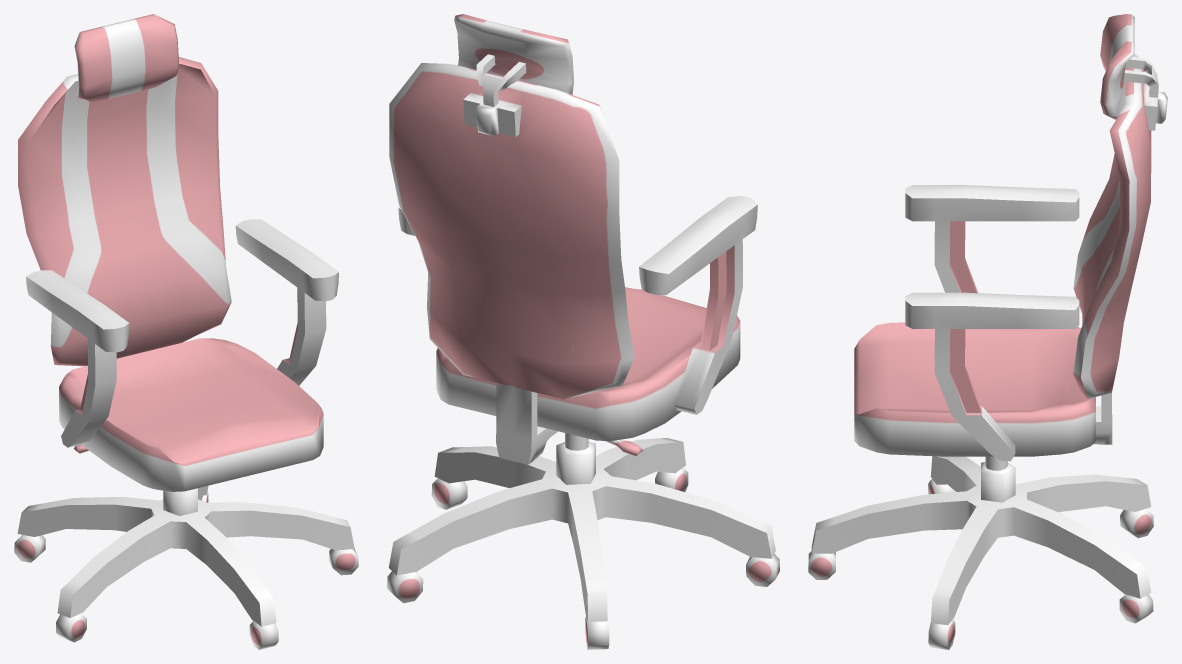
File: chair.fbx
3 renders of one model, left to right at view 1: azimuth 30°, elevation 25°; view 2: azimuth 150°, elevation 25°; view 3: azimuth 270°, elevation 25°, orthographic. The views are drawn at different scales.
Visible parts, largest first — view 1: cowbay, seat, feet, arm_Right, arm_Left, wheel_3, wheel_2, wheel_1, wheel_5; view 2: cowbay, feet, seat, arm_Right, wheel_4, wheel_5, wheel_3, wheel_2, wheel_1; view 3: seat, feet, cowbay, arm_Left, arm_Right, wheel_2, wheel_4, wheel_1, wheel_5.
Boxes of the visible parts, x1=… form: cowbay: x1=18, y1=14, x2=231, y2=366; seat: x1=59, y1=338, x2=323, y2=491; feet: x1=17, y1=486, x2=354, y2=626; arm_Right: x1=26, y1=270, x2=129, y2=447; arm_Left: x1=235, y1=219, x2=338, y2=385; wheel_3: x1=56, y1=613, x2=86, y2=642; wheel_2: x1=14, y1=535, x2=45, y2=562; wheel_1: x1=249, y1=621, x2=278, y2=649; wheel_5: x1=329, y1=549, x2=358, y2=575; cowbay: x1=389, y1=14, x2=634, y2=464; feet: x1=388, y1=433, x2=775, y2=621; seat: x1=436, y1=287, x2=740, y2=441; arm_Right: x1=639, y1=196, x2=757, y2=414; wheel_4: x1=387, y1=571, x2=423, y2=603; wheel_5: x1=431, y1=478, x2=467, y2=509; wheel_3: x1=746, y1=554, x2=779, y2=586; wheel_2: x1=585, y1=616, x2=609, y2=649; wheel_1: x1=655, y1=467, x2=688, y2=492; seat: x1=854, y1=322, x2=1095, y2=456; feet: x1=811, y1=456, x2=1151, y2=625; cowbay: x1=1073, y1=14, x2=1167, y2=444; arm_Left: x1=905, y1=292, x2=1079, y2=461; arm_Right: x1=905, y1=185, x2=1079, y2=293; wheel_2: x1=1120, y1=509, x2=1153, y2=538; wheel_4: x1=1119, y1=594, x2=1153, y2=623; wheel_1: x1=808, y1=551, x2=835, y2=579; wheel_5: x1=928, y1=619, x2=955, y2=649.
Bounding box in the file's own units: 75.29 × 124 × 74.34.
1 material, 1 textured.
